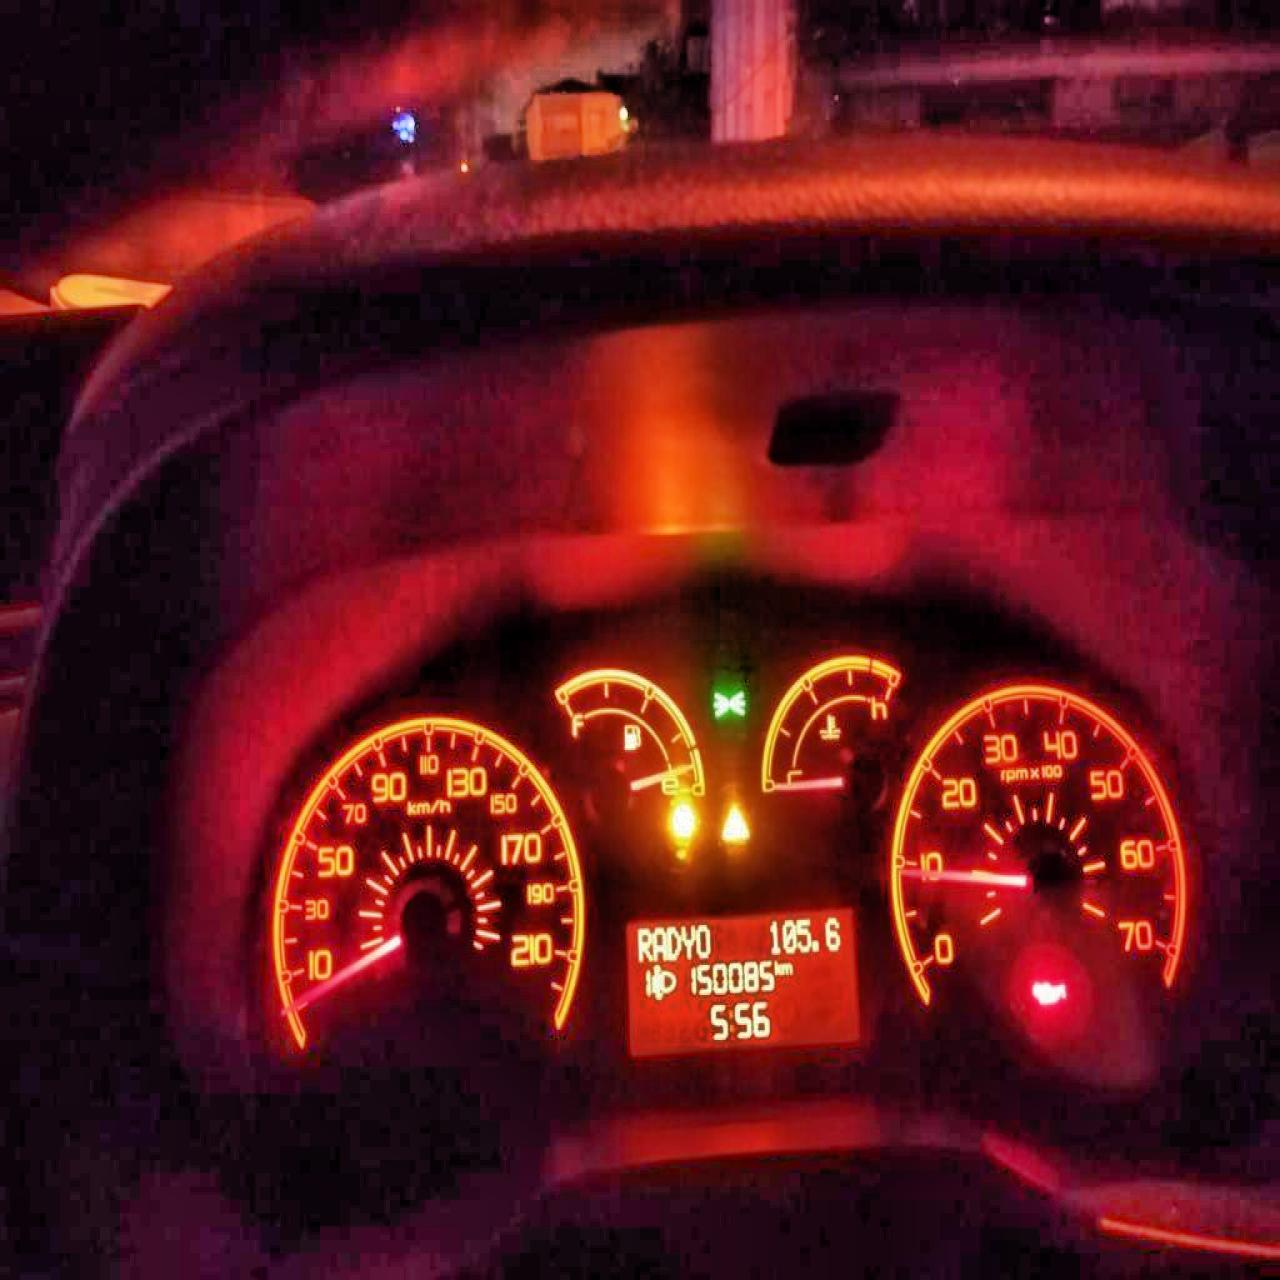-: (811, 934, 821, 953)
0: (712, 960, 728, 995), (779, 917, 795, 953), (728, 959, 742, 994)
1: (768, 917, 781, 955), (644, 967, 651, 999), (689, 964, 695, 995)
5: (708, 1002, 728, 1040), (734, 1000, 751, 1039), (795, 914, 811, 953), (696, 961, 712, 995), (758, 959, 774, 992)
6: (751, 999, 769, 1039), (824, 914, 842, 953)
8: (742, 959, 757, 992)
X: (665, 924, 681, 960), (696, 921, 712, 959), (635, 924, 651, 961), (681, 921, 695, 959), (651, 924, 665, 960), (778, 960, 792, 975), (728, 1007, 733, 1032), (772, 959, 779, 975)
odometer: (619, 905, 864, 1051)
